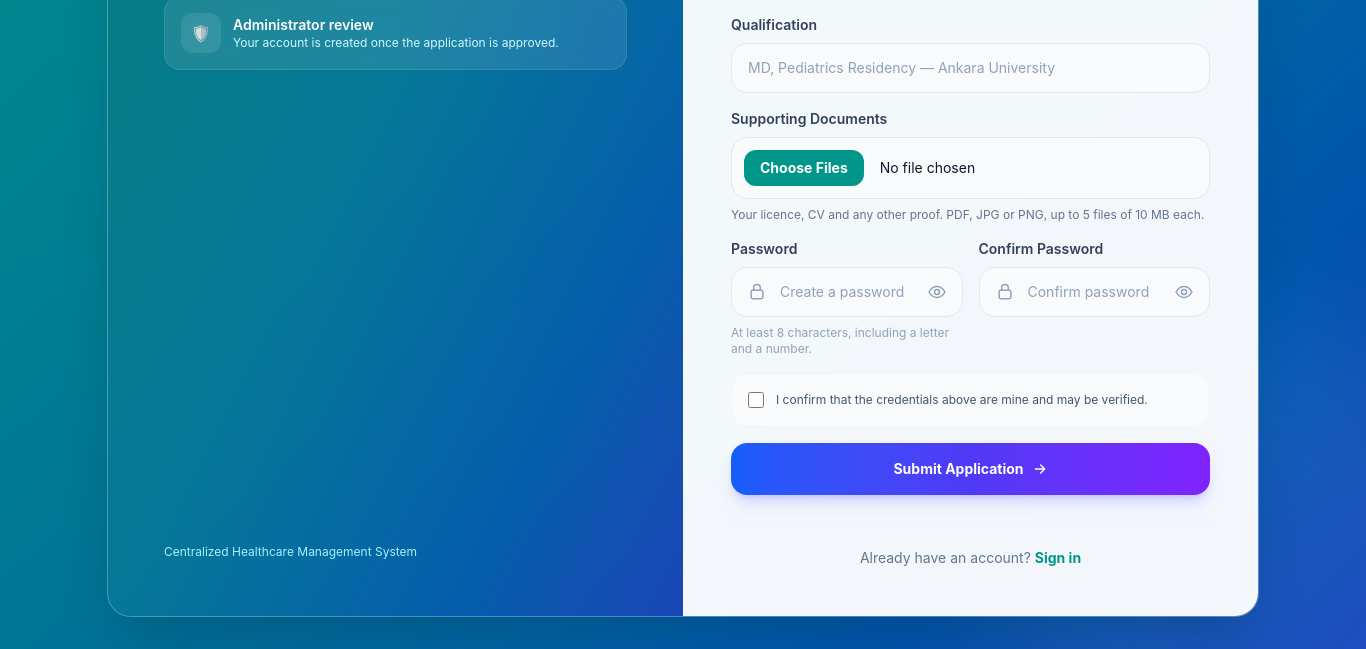
Test: staff application › shows an error for every empty field
(page scrolled)
Click the button "Submit Application" at x=970, y=469, box [731,443,1210,495]
(page scrolled)
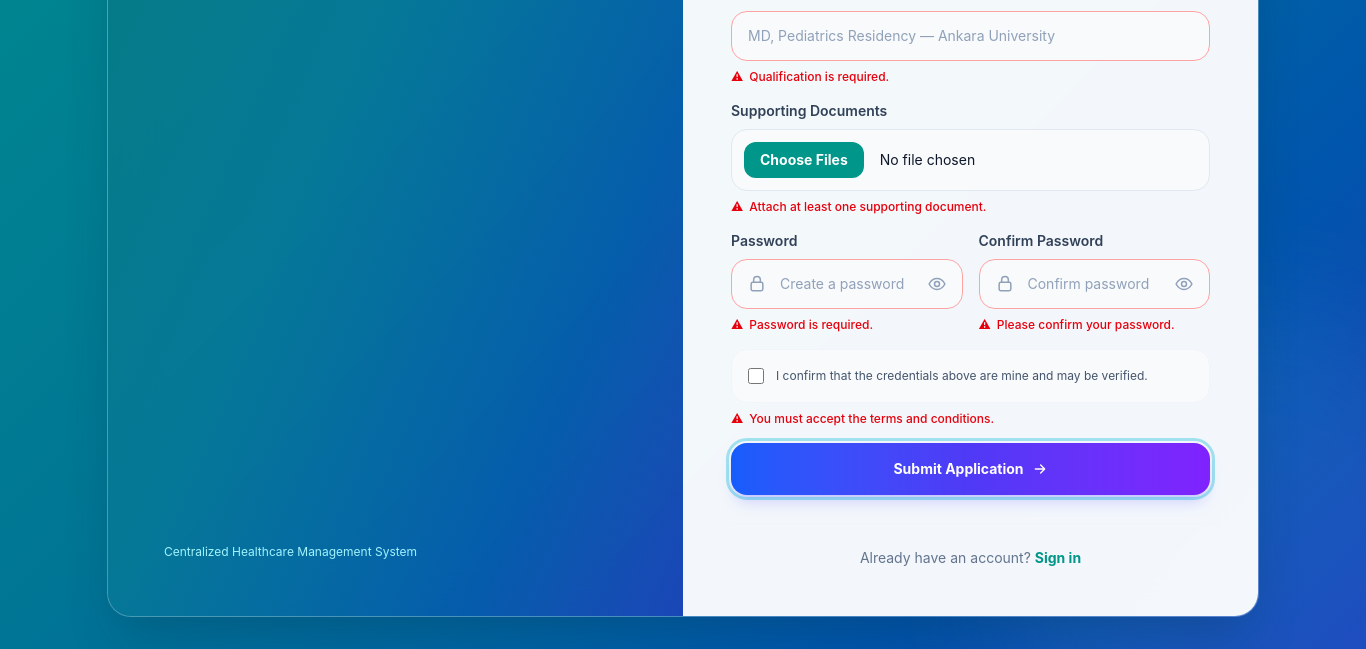
Now the element with id "applicantDocuments-error" shows "Attach at least one supporting document", box [749,199,986,214]
